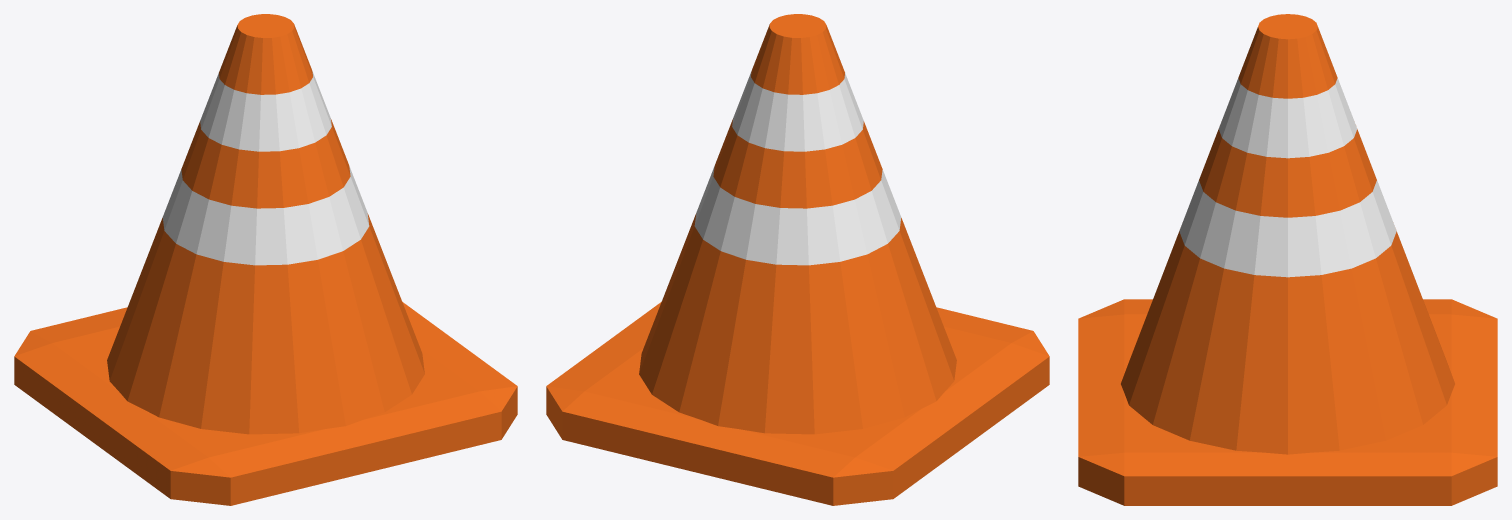
3 views of the same model, side by side, from view 1: azimuth 30°, elevation 25°; view 2: azimuth 150°, elevation 25°; view 3: azimuth 270°, elevation 25° (orthographic). The views are drawn at different scales.
Visible parts, largest first — view 1: Cone, Cube; view 2: Cone, Cube; view 3: Cone, Cube.
Part boxes in pixels (x1,y1,x2,y2): Cone: (107,14,424,434); Cube: (14,302,517,505); Cone: (639,14,956,434); Cube: (546,302,1049,505); Cone: (1121,14,1454,454); Cube: (1078,299,1497,505).
Size of the model in its own units: 0.7 by 0.7275 by 0.7.
